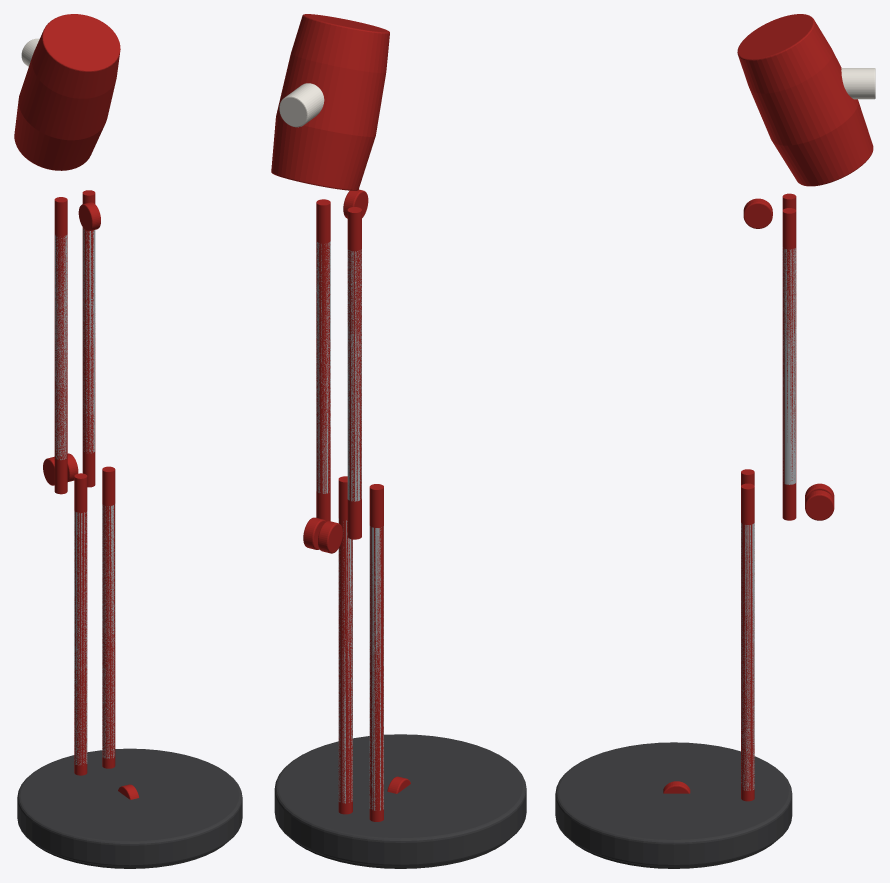
File: Anglepoise_task_lamp__drawn_.glb
3 views of the same model, side by side, from view 1: azimuth 30°, elevation 25°; view 2: azimuth 150°, elevation 25°; view 3: azimuth 270°, elevation 25° (orthographic). The views are drawn at different scales.
Parts seen in each view (by area): view 1: base, shade, arm.upper_1, arm.lower_2, arm.lower_1, arm.upper_2, spring.lower_2, spring.upper_1, spring.lower_1, spring.upper_2, pivot.shade; view 2: base, shade, arm.upper_2, arm.lower_2, arm.upper_1, arm.lower_1, spring.upper_1, spring.lower_1, spring.lower_2, spring.upper_2, lampholder, pivot.middle_1 (+1 smaller); view 3: base, shade, arm.lower_2, arm.upper_2, spring.upper_2, spring.lower_2, lampholder, pivot.middle_2, pivot.shade.
Boxes of the visible parts, x1=… form: base: x1=17, y1=748, x2=242, y2=866; shade: x1=14, y1=14, x2=120, y2=170; arm.upper_1: x1=54, y1=197, x2=67, y2=494; arm.lower_2: x1=102, y1=466, x2=115, y2=768; arm.lower_1: x1=74, y1=473, x2=87, y2=775; arm.upper_2: x1=82, y1=190, x2=95, y2=487; spring.lower_2: x1=102, y1=504, x2=115, y2=758; spring.upper_1: x1=55, y1=235, x2=67, y2=459; spring.lower_1: x1=74, y1=511, x2=87, y2=765; spring.upper_2: x1=83, y1=228, x2=95, y2=453; pivot.shade: x1=78, y1=202, x2=100, y2=231; base: x1=274, y1=734, x2=526, y2=866; shade: x1=271, y1=14, x2=389, y2=190; arm.upper_2: x1=316, y1=199, x2=330, y2=521; arm.lower_2: x1=338, y1=476, x2=352, y2=814; arm.upper_1: x1=347, y1=207, x2=361, y2=539; arm.lower_1: x1=369, y1=484, x2=383, y2=821; spring.upper_1: x1=347, y1=249, x2=361, y2=501; spring.lower_1: x1=369, y1=526, x2=383, y2=810; spring.lower_2: x1=338, y1=518, x2=352, y2=803; spring.upper_2: x1=316, y1=241, x2=330, y2=493; lampholder: x1=279, y1=83, x2=324, y2=127; pivot.middle_1: x1=318, y1=521, x2=342, y2=553; base: x1=555, y1=742, x2=792, y2=866; shade: x1=737, y1=14, x2=873, y2=186; arm.lower_2: x1=741, y1=483, x2=754, y2=801; arm.upper_2: x1=782, y1=208, x2=796, y2=520; spring.upper_2: x1=783, y1=248, x2=796, y2=484; spring.lower_2: x1=741, y1=523, x2=754, y2=790; lampholder: x1=841, y1=68, x2=875, y2=99; pivot.middle_2: x1=805, y1=490, x2=834, y2=520; pivot.shade: x1=743, y1=198, x2=772, y2=228.
Size of the model in its own units: 0.21 by 0.781 by 0.2837.
